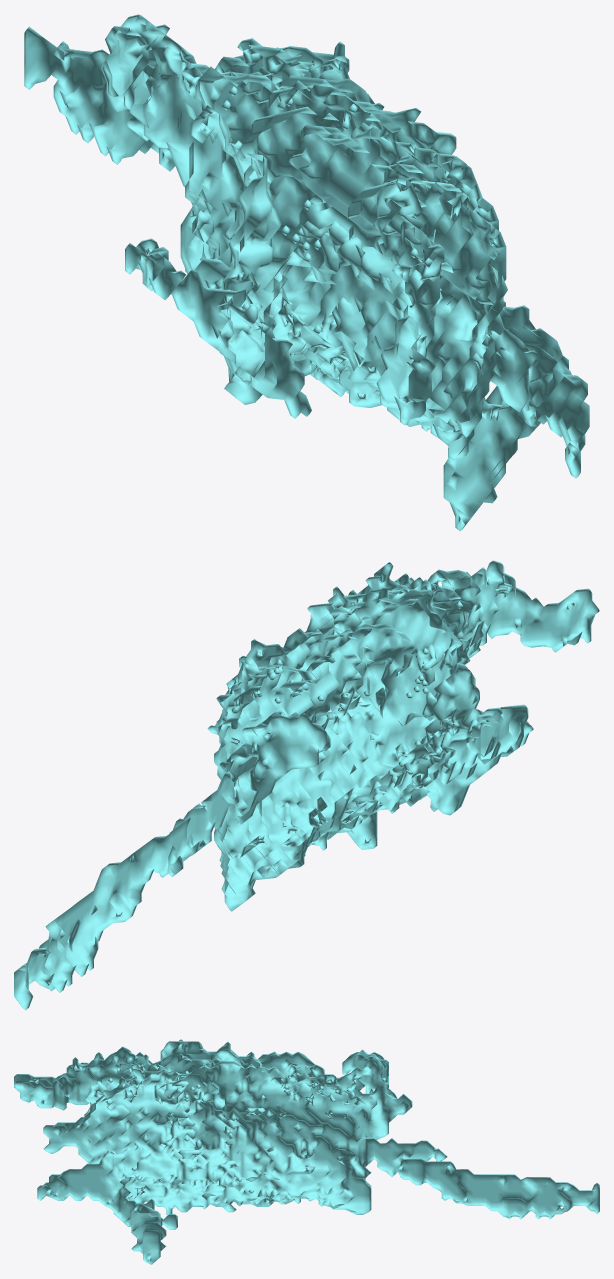
File: osteocyte_127.glb
3 renders of one model, top to bottom at view 1: azimuth 30°, elevation 25°; view 2: azimuth 150°, elevation 25°; view 3: azimuth 270°, elevation 25°, orthographic. The views are drawn at different scales.
Parts seen in each view (by area): view 1: osteocyte_127; view 2: osteocyte_127; view 3: osteocyte_127.
Part boxes in pixels (<box>): osteocyte_127: <box>24,14,589,531</box>; osteocyte_127: <box>14,560,599,1010</box>; osteocyte_127: <box>14,1039,599,1264</box>.
Size of the model in its own units: 13.96 by 17.81 by 48.15.
